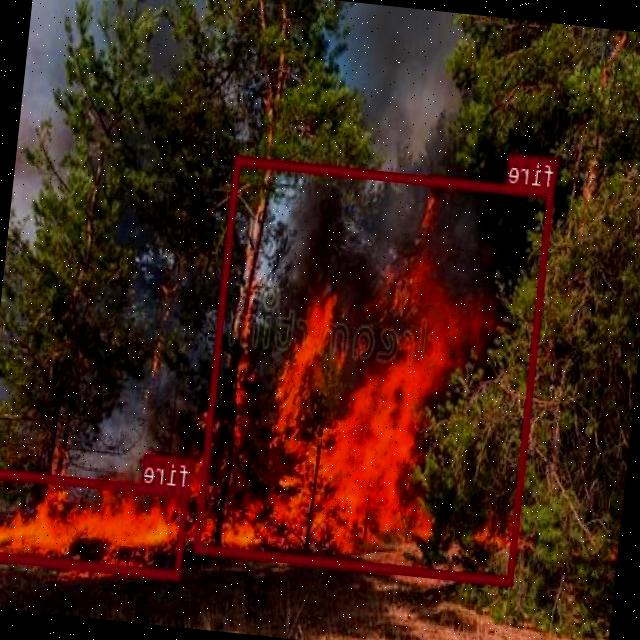fire: (195, 155, 555, 583), (0, 466, 189, 578)
